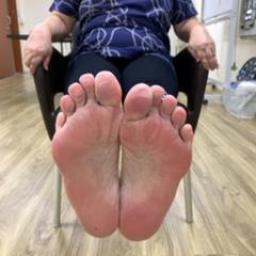Plantar View -Both Feet-: (30, 61, 212, 252)
